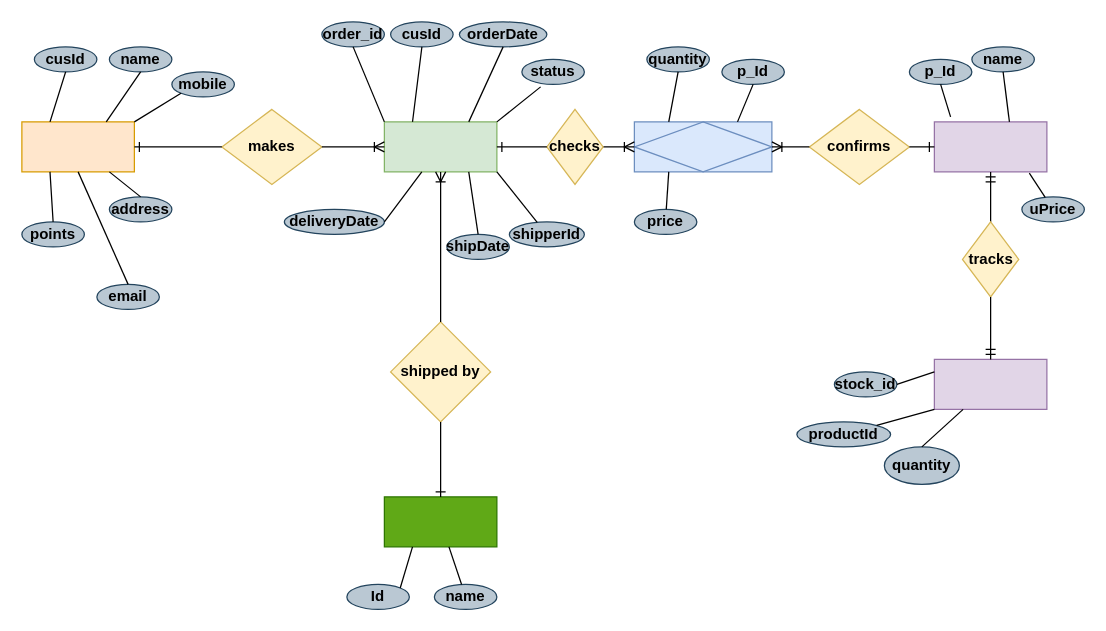
The diagram is 1106 pixels wide and 631 high, and some of its shapes have lost their labels. The shapes that lost their labels are listed below. From the top down, each one's box as (x1, y1, x2, y2) in pixels, then its label:
(21, 121, 134, 172): customers
(383, 121, 497, 172): orders
(633, 121, 772, 172): shopping cart
(933, 121, 1047, 172): products
(933, 358, 1047, 409): stock
(383, 496, 497, 547): shippers
